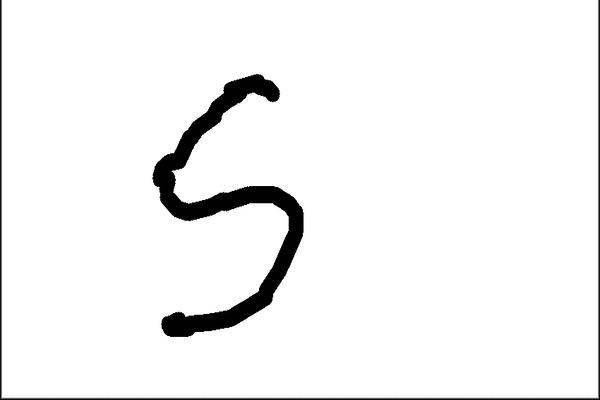S: (146, 70, 309, 339)
